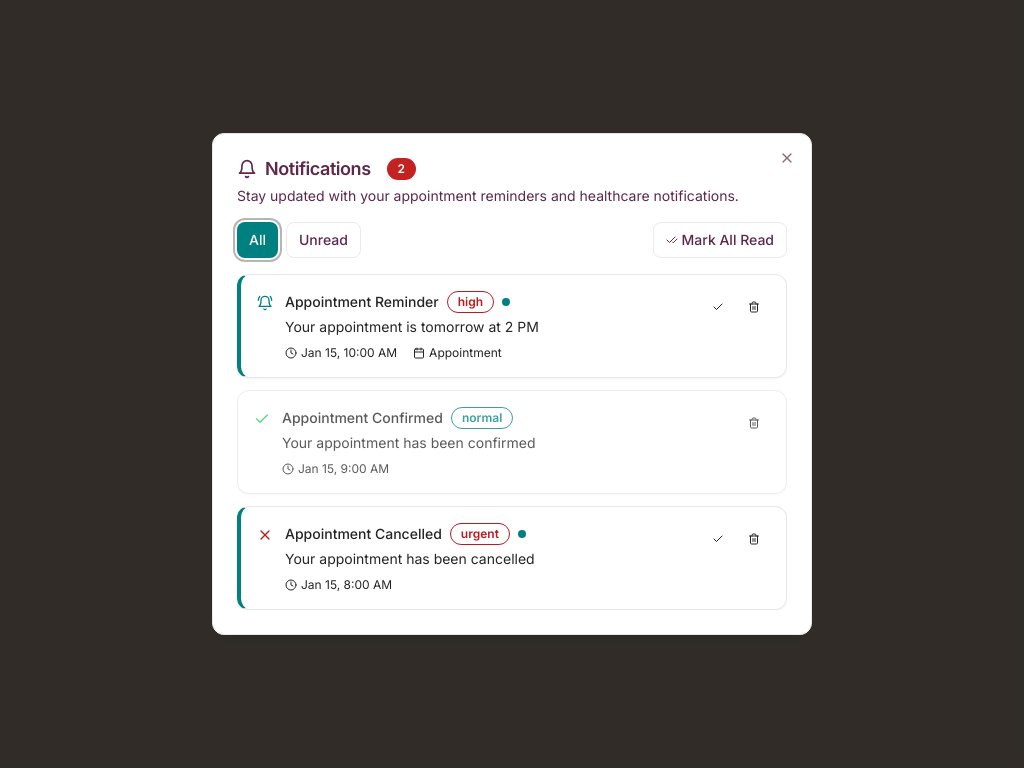
NotificationCenter › Filtering › should filter to unread notifications
Click the button "Unread": [323, 240] box [286,222,361,258]
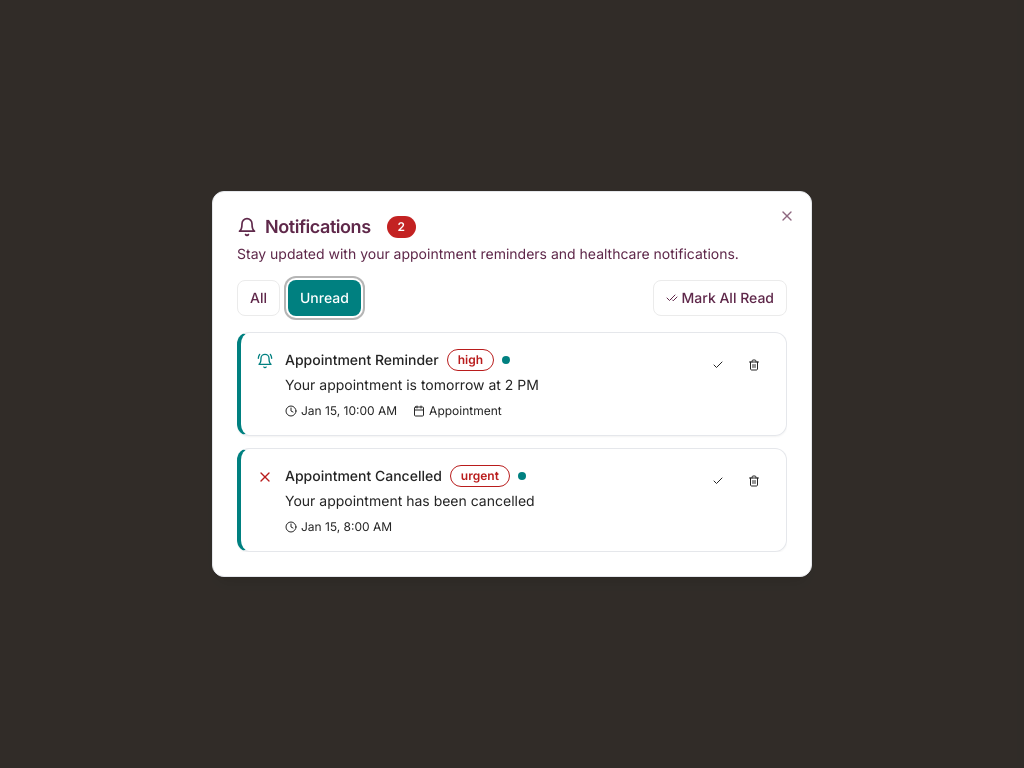
Expected: the heading "Appointment Reminder" is shown, [285,350,439,370]
Expected: the heading "Appointment Confirmed" is gone
